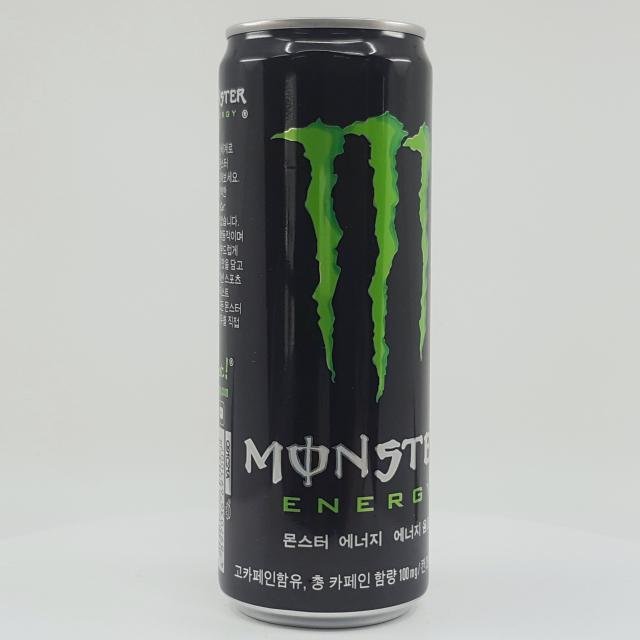--------355ML: (218, 17, 432, 628)
